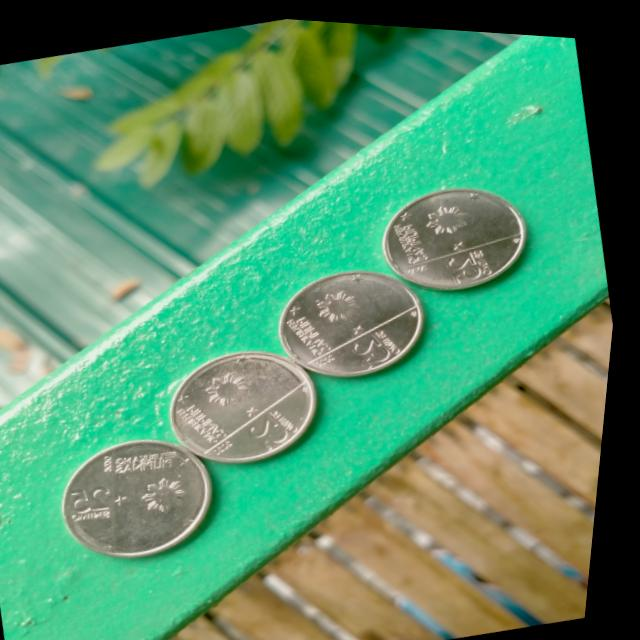25Cent_New_Front: (171, 347, 319, 470), (386, 179, 515, 297), (66, 434, 209, 537)
